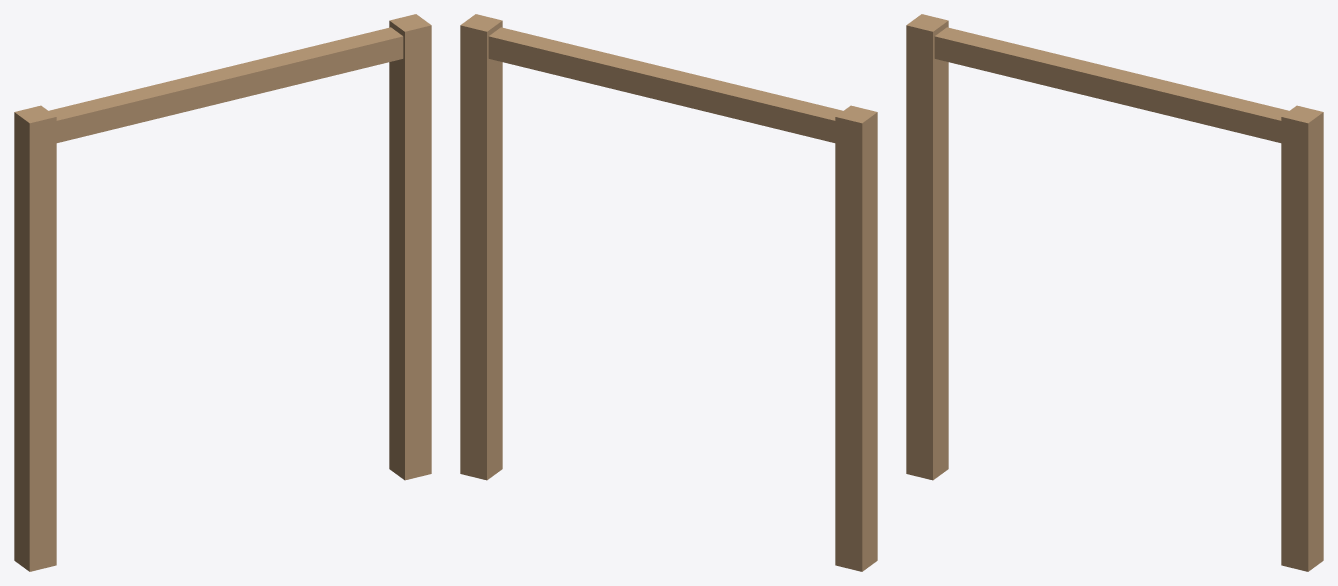
File: Prop_DS_DryingRack.glb
3 views of the same model, side by side, from view 1: azimuth 30°, elevation 25°; view 2: azimuth 150°, elevation 25°; view 3: azimuth 330°, elevation 25° (orthographic).
Visible parts, largest first — view 1: Prop_DS_DryingRack; view 2: Prop_DS_DryingRack; view 3: Prop_DS_DryingRack.
Part boxes in pixels (x1,y1,x2,y2): Prop_DS_DryingRack: (14,14,431,571); Prop_DS_DryingRack: (460,14,877,571); Prop_DS_DryingRack: (906,14,1323,571).
Bounding box in the file's own units: 1.5 × 1.6 × 0.1.
